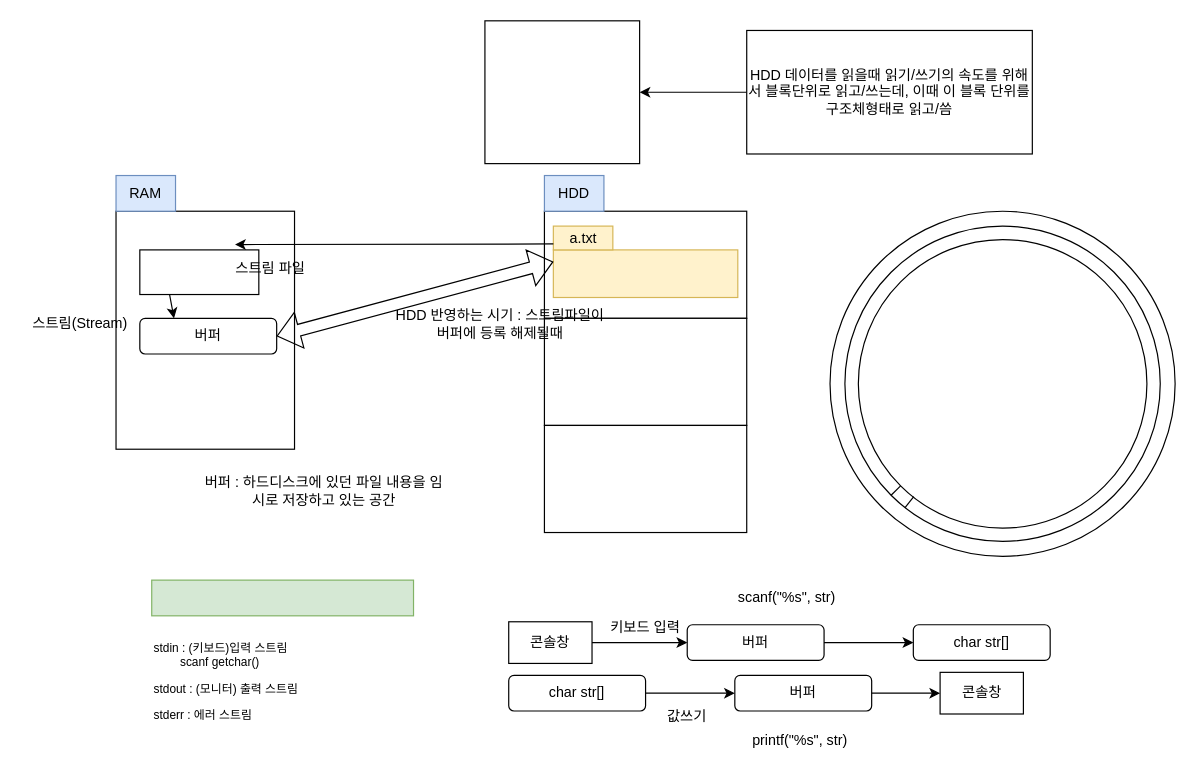
Image size: 1196x779. Some labels were removed from this diagram. Each missing label, with the centre of its shape:
struct FILE{ }: (x=199, y=272)
struct FILE{ 블록 첫번째 주소 내용 크기 수정한 날짜 작성자 ...등등등 }: (x=562, y=92)
내용, 수정한날짜, 크기, 작성자 등등: (x=645, y=273)
운영체제가 기본적으로 생성하는 3가지 스트림: (x=282, y=597)
